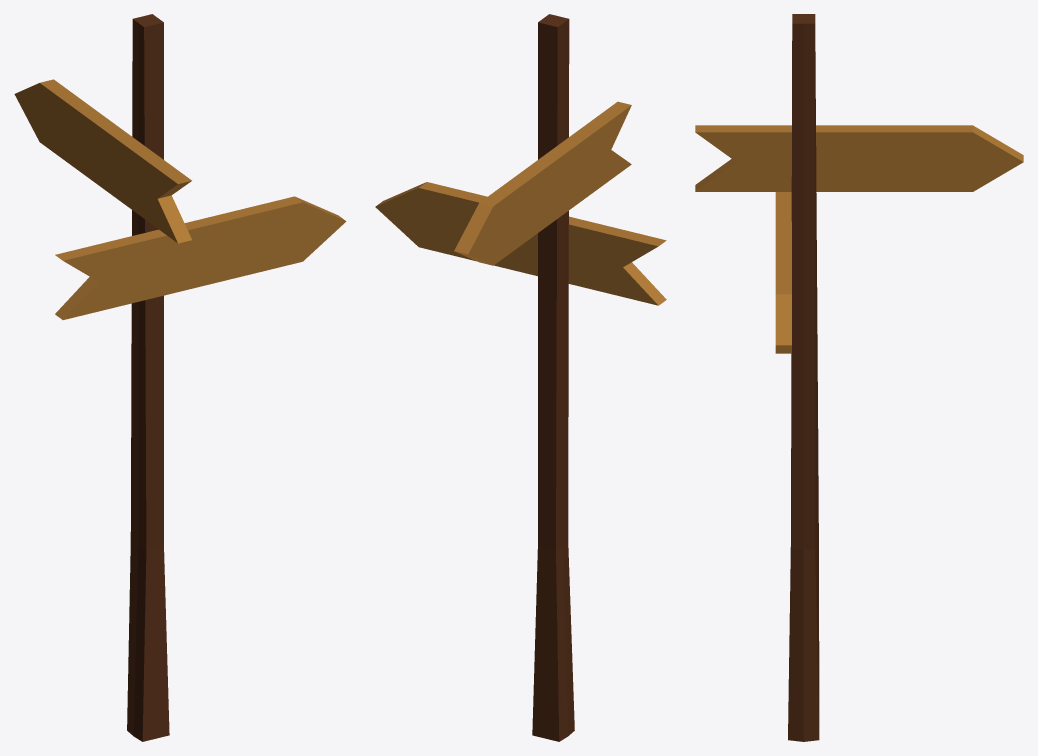
Rendered from Wood Post Arrow.fbx.
The picture shows the model from 3 angles, left to right: view 1: azimuth 30°, elevation 25°; view 2: azimuth 150°, elevation 25°; view 3: azimuth 270°, elevation 25°; orthographic projection.
Parts seen in each view (by area): view 1: Wood Post Arrow; view 2: Wood Post Arrow; view 3: Wood Post Arrow.
Boxes of the visible parts, x1,y1,x2,y2 form: Wood Post Arrow: (14, 14, 346, 741); Wood Post Arrow: (375, 14, 666, 741); Wood Post Arrow: (695, 14, 1023, 741).
Size of the model in its own units: 100 by 240 by 100.
